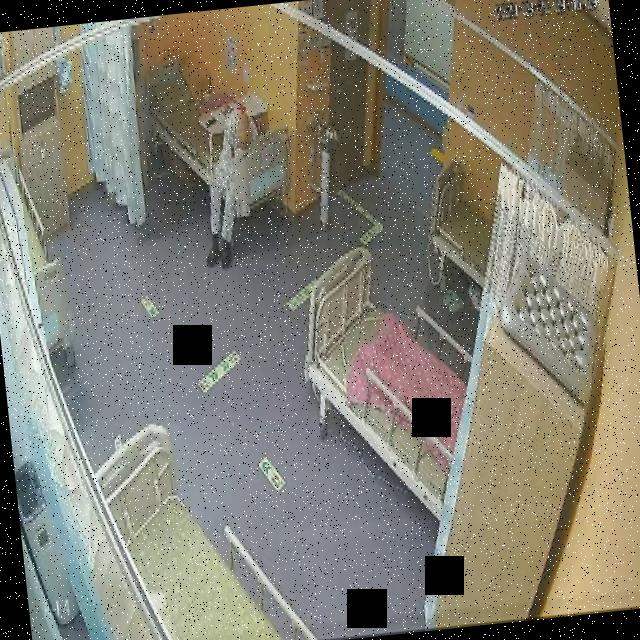bed: (89, 406, 317, 640), (297, 238, 479, 526), (142, 48, 295, 225), (421, 160, 499, 294)
patient: (190, 104, 270, 270)
sit: (190, 102, 271, 270)
